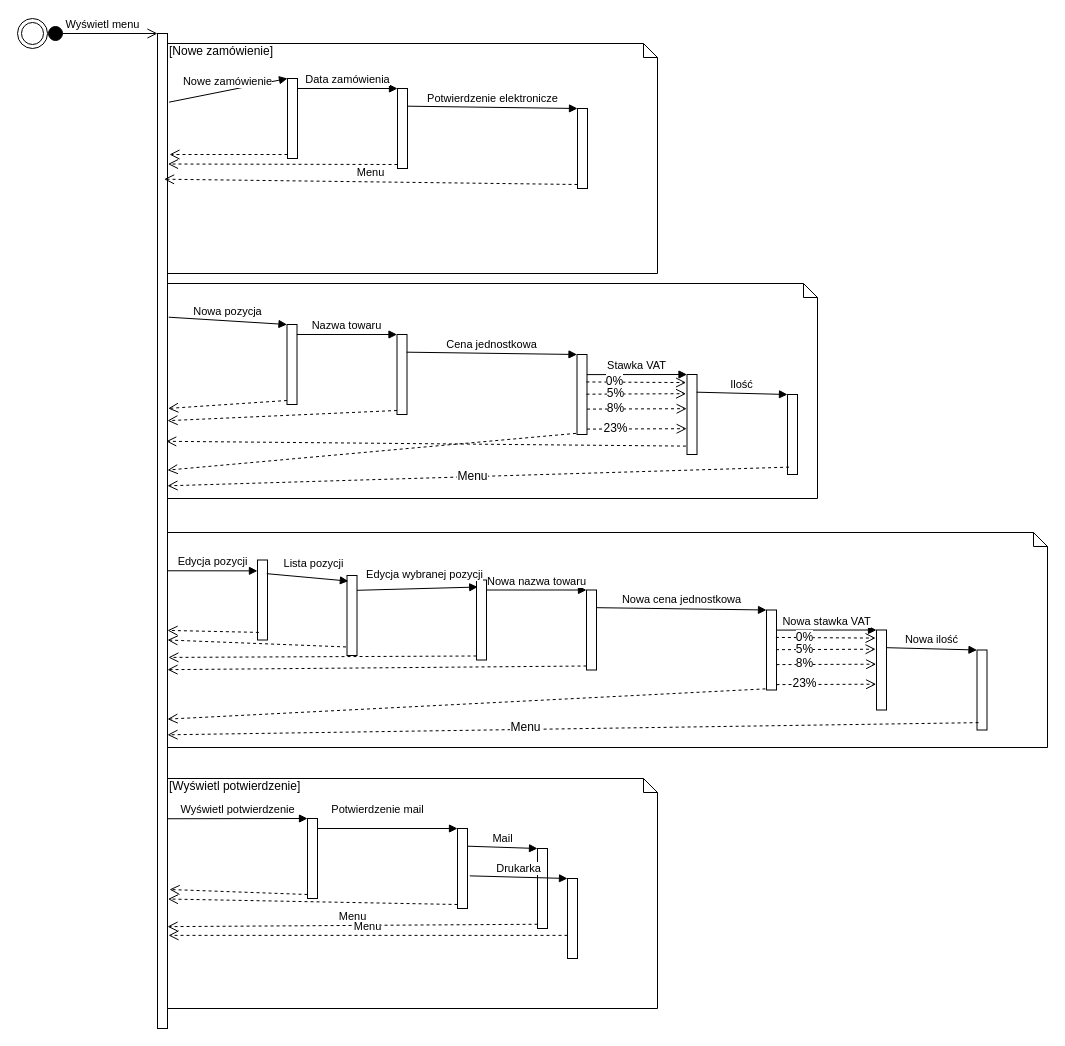
The diagram is 1065 pixels wide and 1046 high, and some of its shapes have lost their labels. Each missing label, with the centre of its shape:
"[Edycja pozycji]" belongs at (607,640).
"[Nowa pozycja]" belongs at (492,390).
